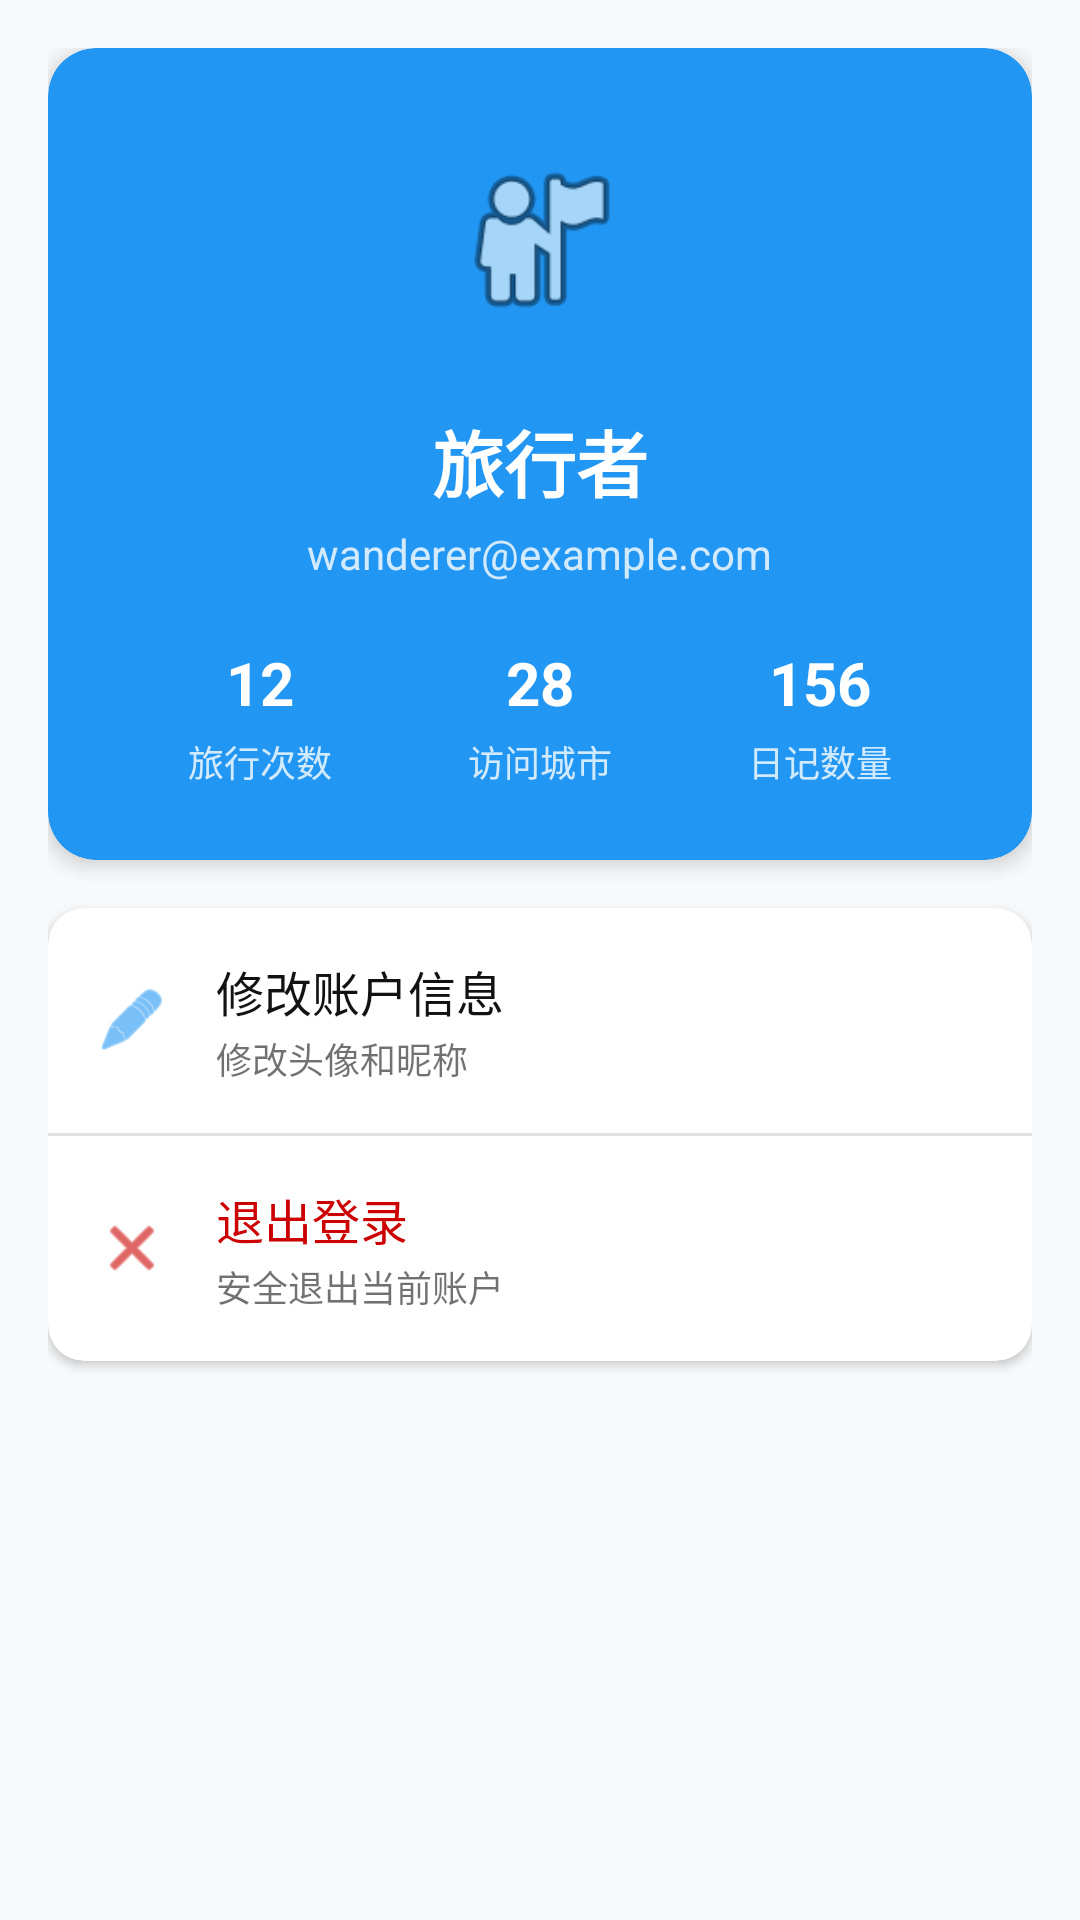

Locate icon controls on the screen. Image size 1080 × 1920, boxes as box(x1, y1, x2, y2).
close clear cancel: box(109, 1225, 155, 1271)
edit: box(101, 989, 162, 1050)
